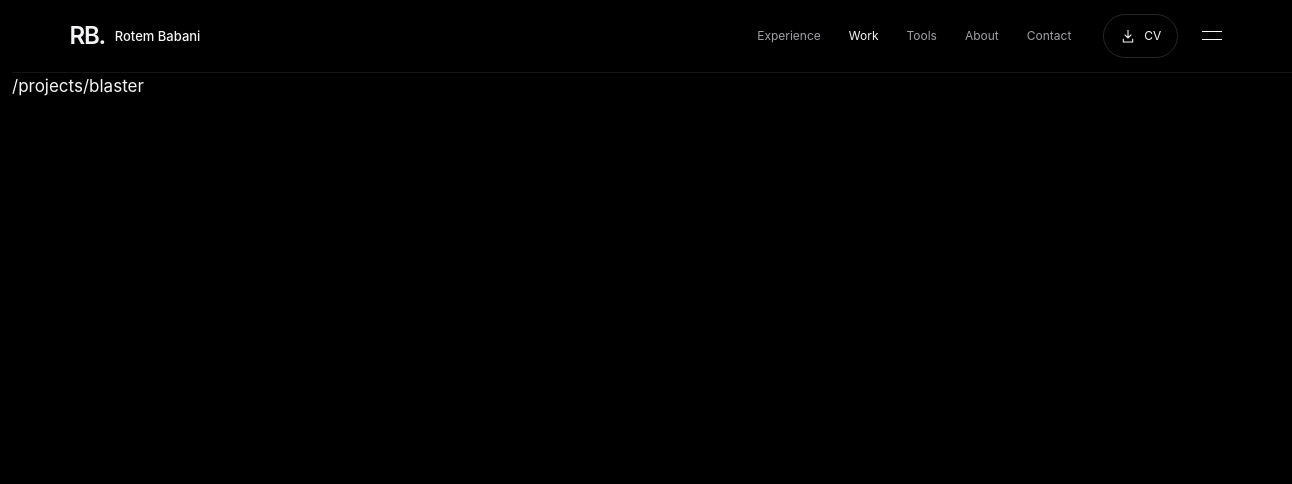
Test: homepage section navigation › returns from an interior page to experience through menu navigation
The image size is (1292, 484).
(page scrolled)
Click the button named "Menu".
click(1212, 36)  # box [1190,14,1234,58]
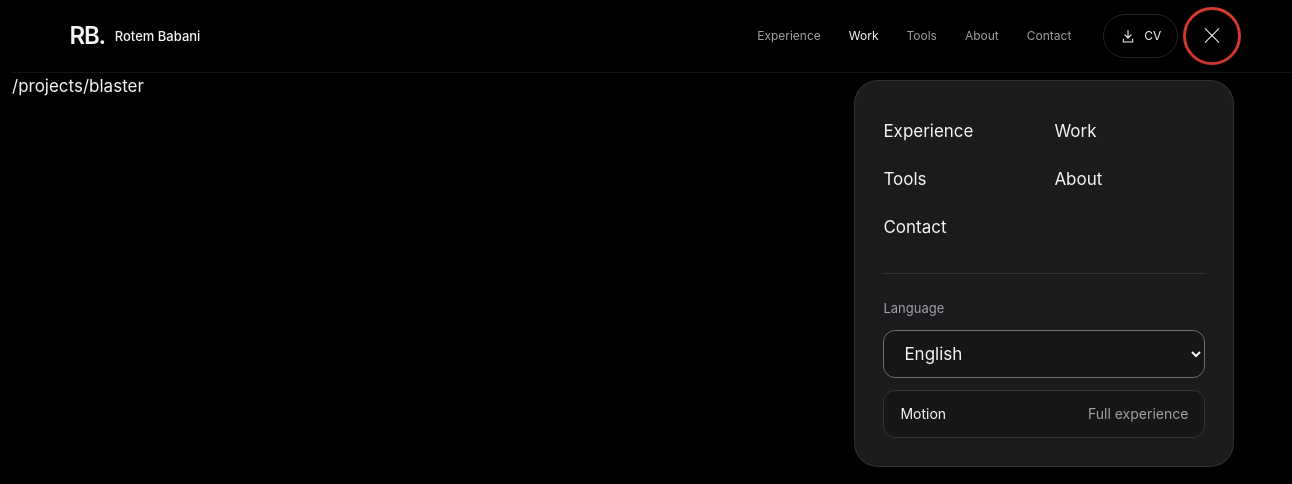
Click the 2nd link "Experience".
click(928, 131)  # box [883,121,974,141]
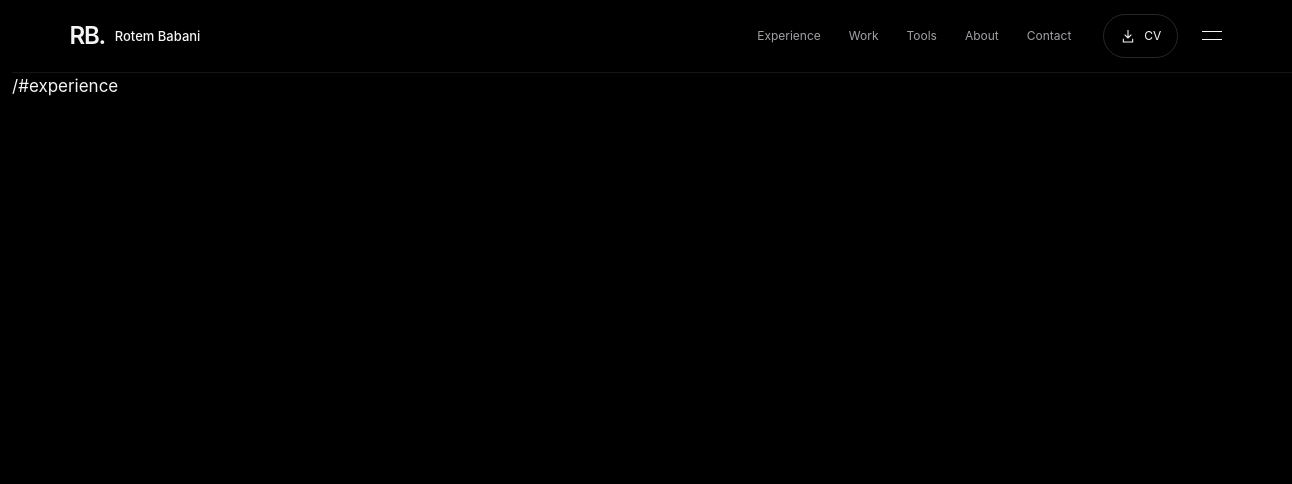
Result: the text with test id "location" reads "/#experience" at [12,76,118,96]
Result: the button named "Menu" is collapsed at [1190,14,1234,58]
